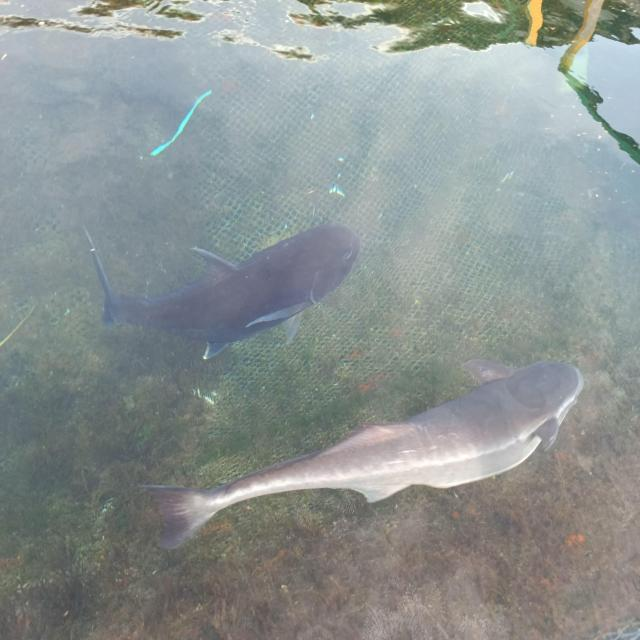ikan: (162, 365, 596, 536), (72, 199, 374, 364)
